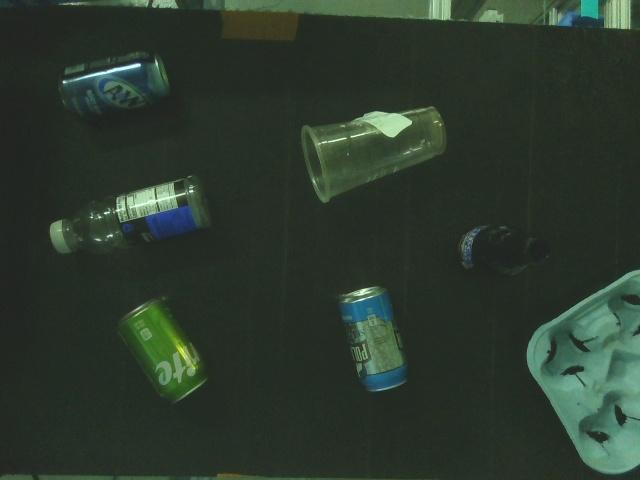cardboard: (524, 264, 640, 478)
glass: (452, 222, 560, 282)
metal: (111, 289, 217, 410), (53, 46, 176, 124), (333, 280, 415, 397)
plastic: (296, 104, 452, 206), (48, 170, 216, 260)
